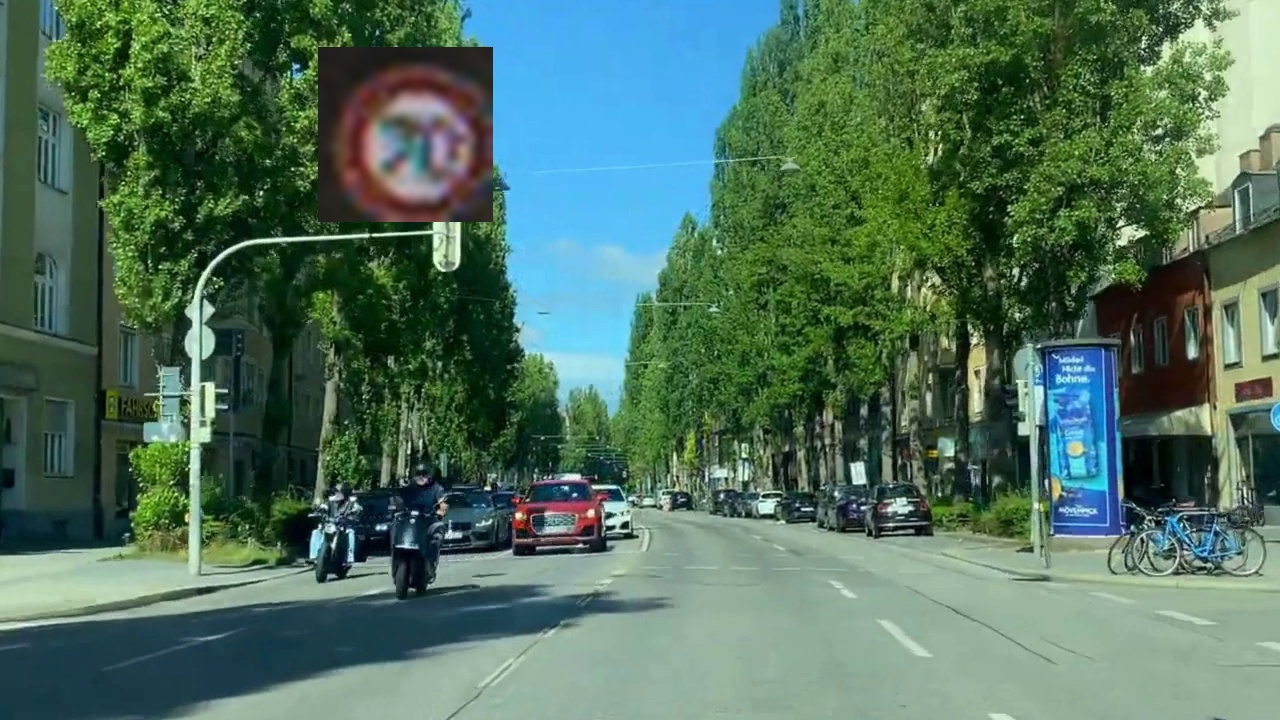Speed 70: (318, 47, 493, 222)
